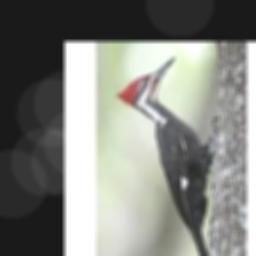Woodpecker: (114, 56, 213, 256)
